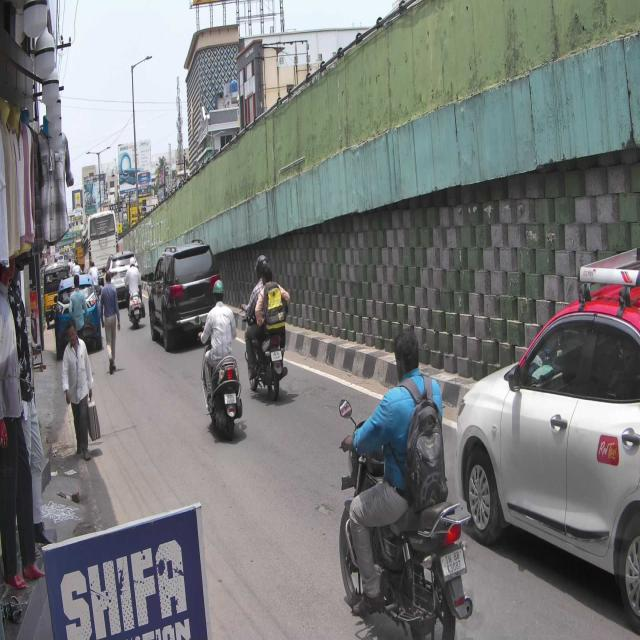single_rider: (337, 327, 471, 640), (197, 276, 245, 442)
